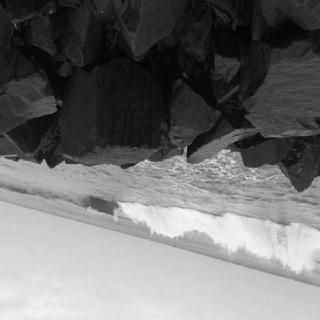other: (216, 214, 314, 266), (121, 210, 212, 242)
